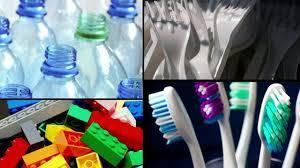Combined plastic: (145, 2, 300, 80)
